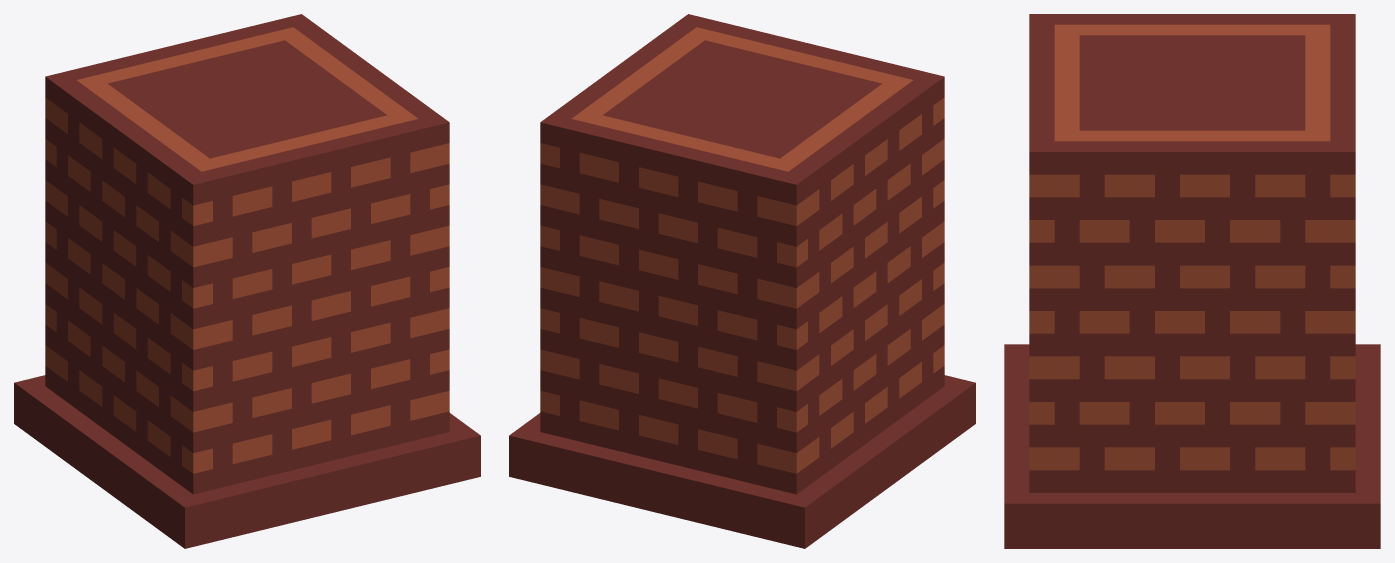
Rendered from dungeon_b_a_inner_wall_solo.obj.
The picture shows the model from 3 angles, left to right: view 1: azimuth 30°, elevation 25°; view 2: azimuth 150°, elevation 25°; view 3: azimuth 270°, elevation 25°; orthographic projection. The views are drawn at different scales.
Size of the model in its own units: 1.5 by 1.7 by 1.5.
Materials: 1 (1 with a texture image).
